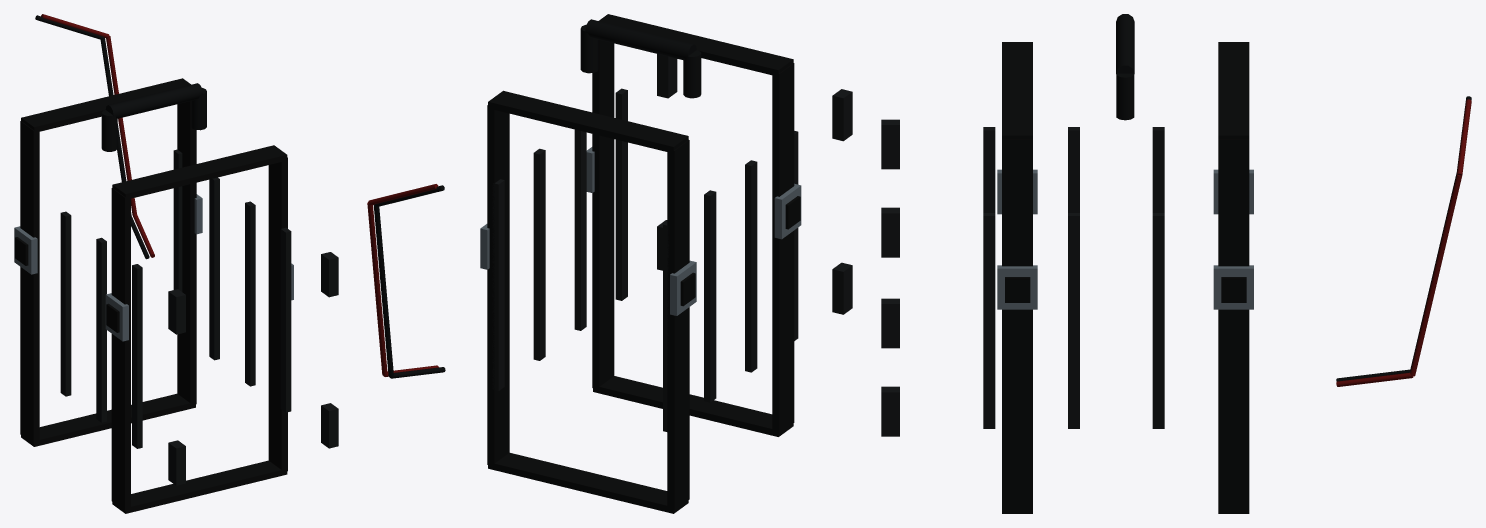
The model's file is detail_battery.dae.
The picture shows the model from 3 angles, left to right: view 1: azimuth 30°, elevation 25°; view 2: azimuth 150°, elevation 25°; view 3: azimuth 270°, elevation 25°; orthographic projection. The views are drawn at different scales.
Visible parts, largest first — view 1: strap, case, rubber, steel, red_wire; view 2: strap, case, rubber, steel, red_wire; view 3: strap, case, steel, rubber, red_wire.
Boxes of the visible parts, <box> form: strap: <box>15,78,287,513</box>; case: <box>60,149,338,485</box>; rubber: <box>35,15,206,259</box>; steel: <box>14,194,293,341</box>; red_wire: <box>41,14,154,257</box>; strap: <box>487,14,800,513</box>; case: <box>492,54,852,431</box>; rubber: <box>373,19,701,378</box>; steel: <box>480,147,801,315</box>; red_wire: <box>367,184,438,376</box>; strap: <box>1002,42,1249,513</box>; case: <box>881,119,1164,436</box>; steel: <box>997,169,1253,309</box>; rubber: <box>1116,14,1471,381</box>; red_wire: <box>1336,99,1471,386</box>.
Bounding box in the file's own units: 0.279 × 0.628 × 0.5015.
